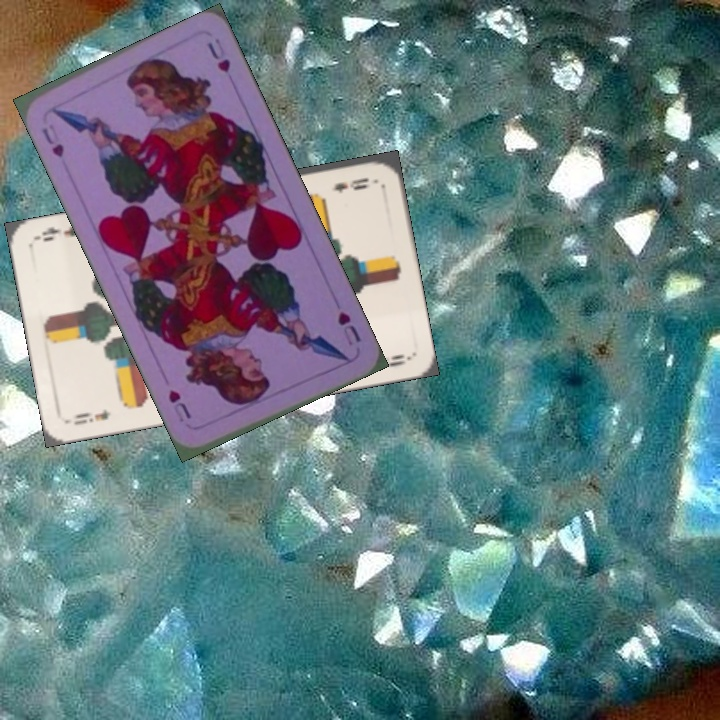E9: (69, 404, 114, 428), (329, 174, 373, 195)
HU: (333, 307, 364, 348), (38, 124, 67, 160)
